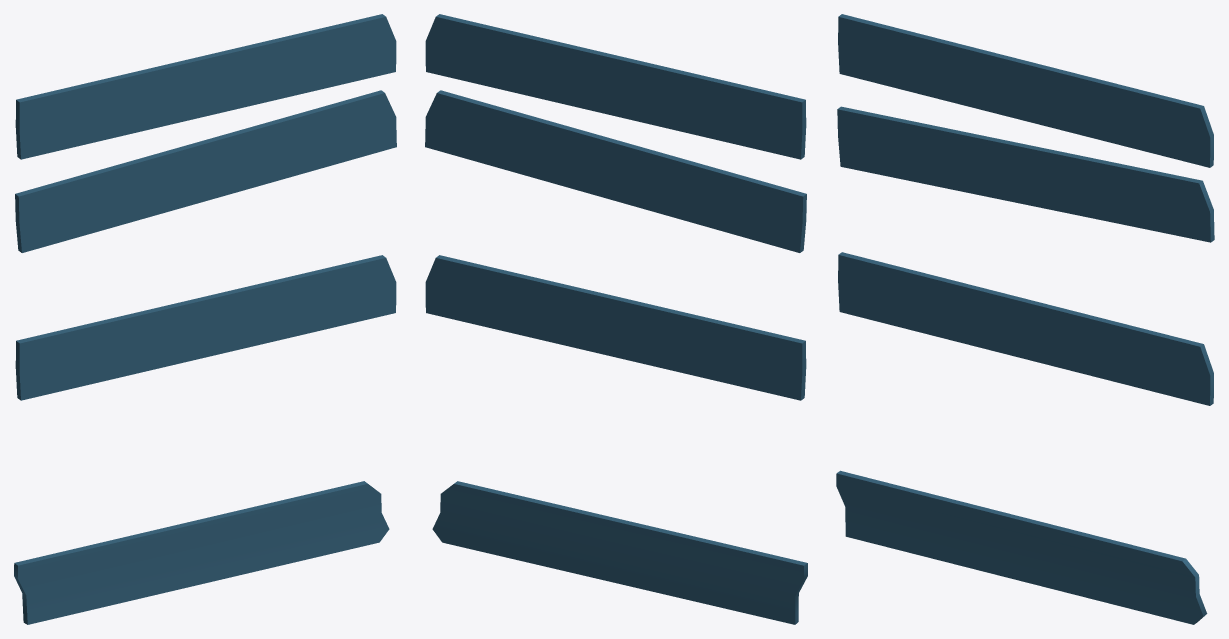
Rendered from Boards_Blocker_06.fbx.
3 renders of one model, left to right at view 1: azimuth 30°, elevation 25°; view 2: azimuth 150°, elevation 25°; view 3: azimuth 330°, elevation 25°, orthographic.
Parts seen in each view (by area): view 1: Boards_Blocker_06; view 2: Boards_Blocker_06; view 3: Boards_Blocker_06.
Part boxes in pixels (left/top/right/bottom): Boards_Blocker_06: left=14, top=14, right=396, bottom=624; Boards_Blocker_06: left=425, top=14, right=807, bottom=624; Boards_Blocker_06: left=836, top=14, right=1214, bottom=624.
Bounding box in the file's own units: 162 × 215 × 3.18.
